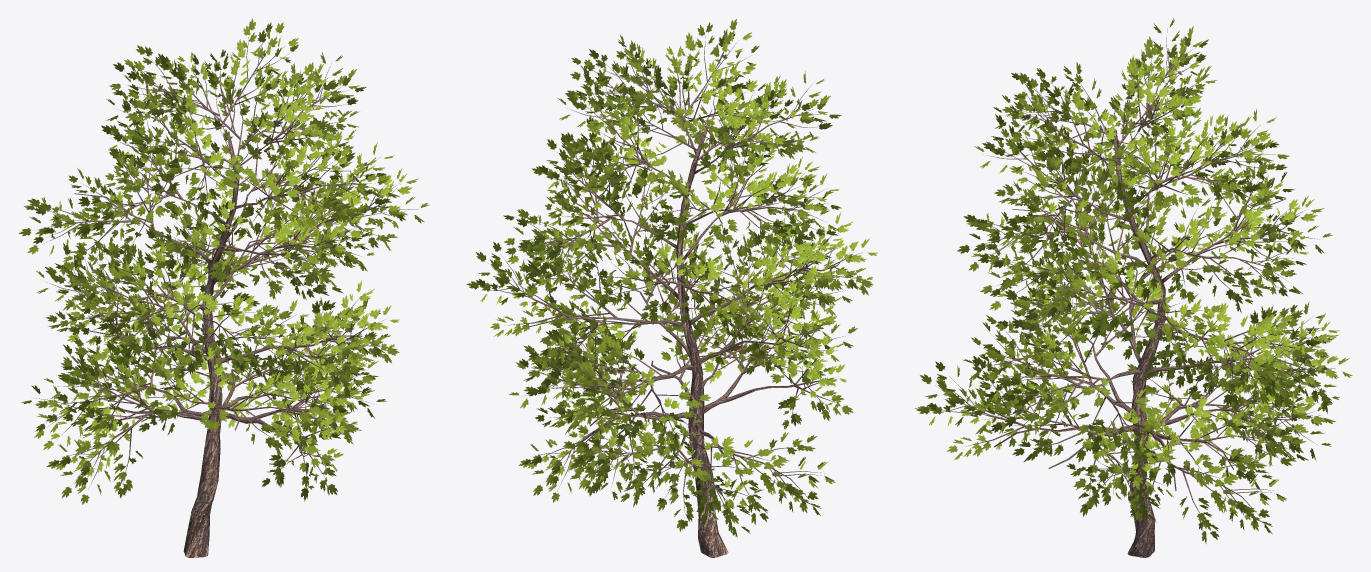
The model's file is Maple_tree.fbx.
3 views of the same model, side by side, from view 1: azimuth 30°, elevation 25°; view 2: azimuth 150°, elevation 25°; view 3: azimuth 270°, elevation 25° (orthographic). The views are drawn at different scales.
Parts seen in each view (by area): view 1: Maple_01; view 2: Maple_01; view 3: Maple_01.
Boxes of the visible parts, x1,y1,x2,y2 form: Maple_01: [19, 18, 429, 557]; Maple_01: [466, 18, 877, 557]; Maple_01: [914, 18, 1352, 557].
Bounding box in the file's own units: 2433 × 3266 × 2535.
